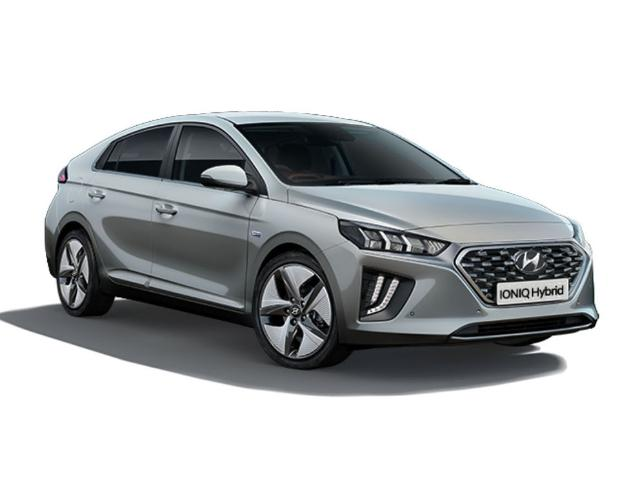hyundai: (44, 110, 602, 370)
